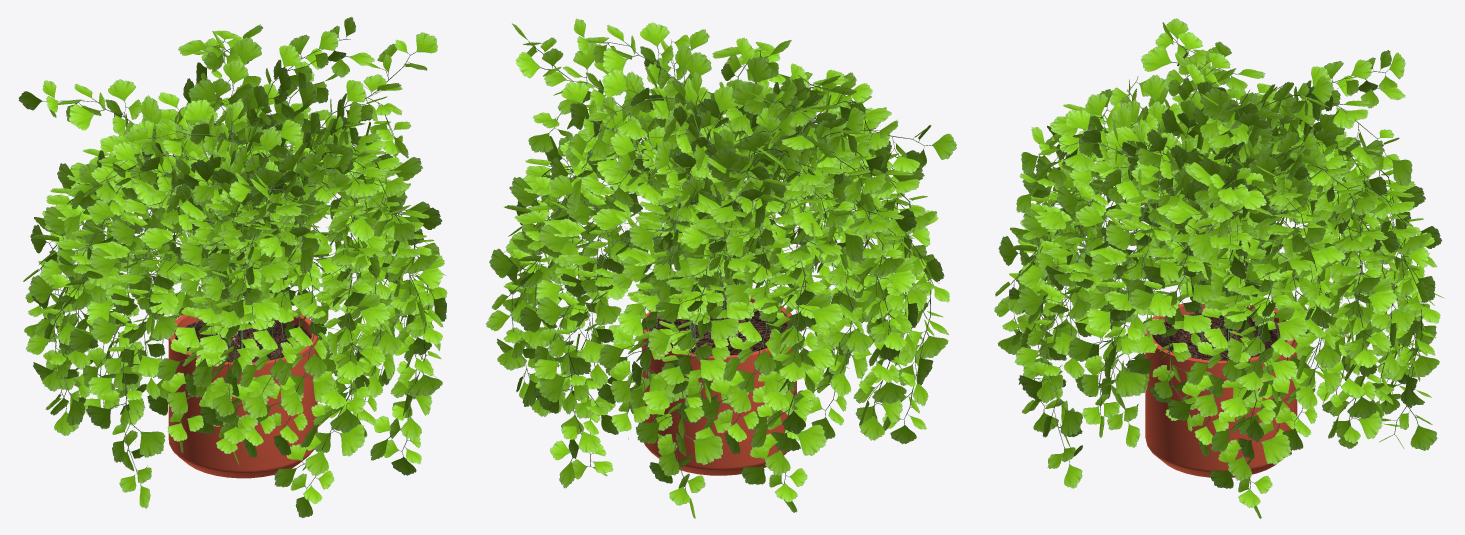
Rendered from Plant6.fbx.
3 renders of one model, left to right at view 1: azimuth 30°, elevation 25°; view 2: azimuth 150°, elevation 25°; view 3: azimuth 270°, elevation 25°, orthographic. The views are drawn at different scales.
Parts seen in each view (by area): view 1: Plant6; view 2: Plant6; view 3: Plant6.
Boxes of the visible parts, x1,y1,x2,y2 form: Plant6: (18,17,447,517); Plant6: (485,18,956,518); Plant6: (994,18,1443,518).
Bounding box in the file's own units: 1.08 × 1.01 × 1.05.
